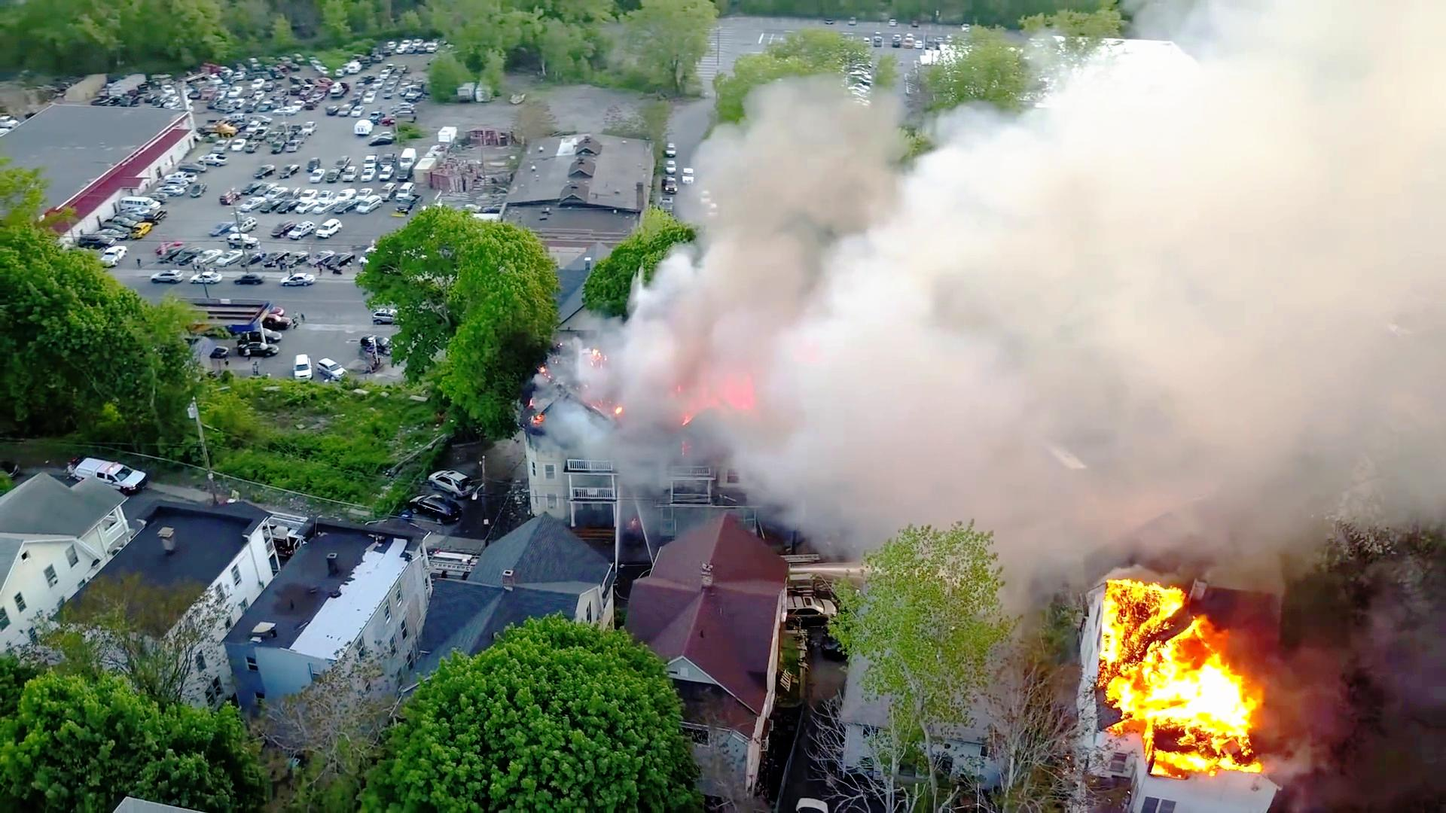fire: (1071, 588, 1269, 760)
smoke: (700, 271, 986, 464)
